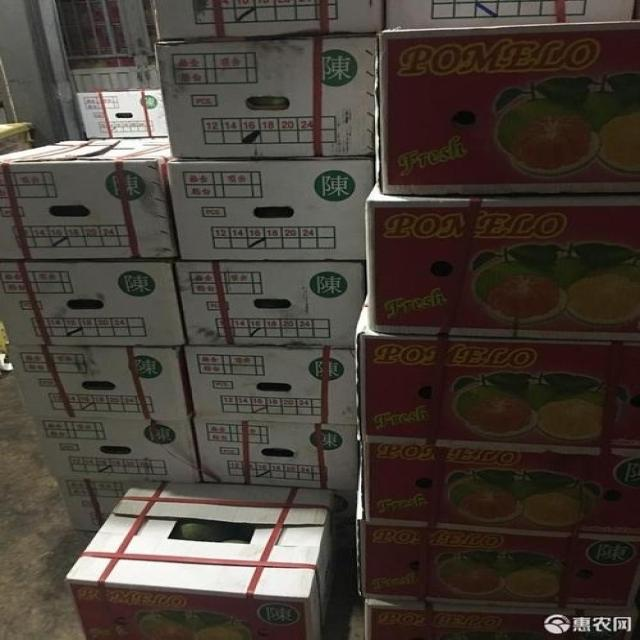box: (356, 293, 640, 458), (374, 20, 639, 194), (63, 479, 340, 640), (366, 181, 640, 341), (356, 477, 639, 609), (360, 440, 640, 540), (155, 33, 378, 158), (0, 135, 174, 261), (166, 157, 375, 261), (175, 261, 364, 351), (0, 260, 184, 347), (4, 342, 188, 421), (183, 346, 360, 424), (365, 596, 635, 640), (28, 415, 202, 483), (193, 419, 358, 489), (152, 1, 379, 38), (387, 0, 635, 30), (52, 478, 136, 533), (74, 89, 170, 137), (334, 488, 357, 548), (0, 123, 32, 154)
